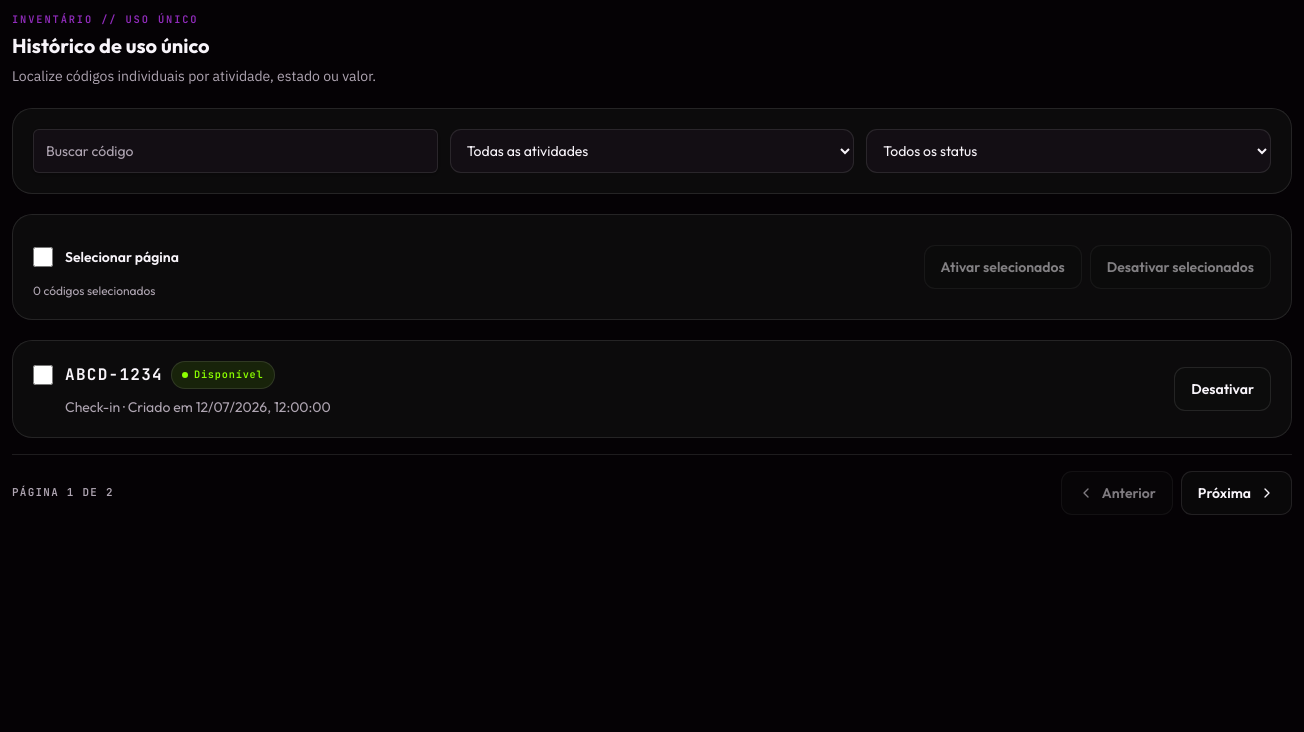
Scenario: ClaimCodeHistory audited status › mantém somente os IDs escolhidos ao mudar de página
What coordinates should you click on to do the following:
click the checkbox named "Selecionar código ABCD-1234"
I would click on:
 (43, 375)
Its box is [33,365,53,385].
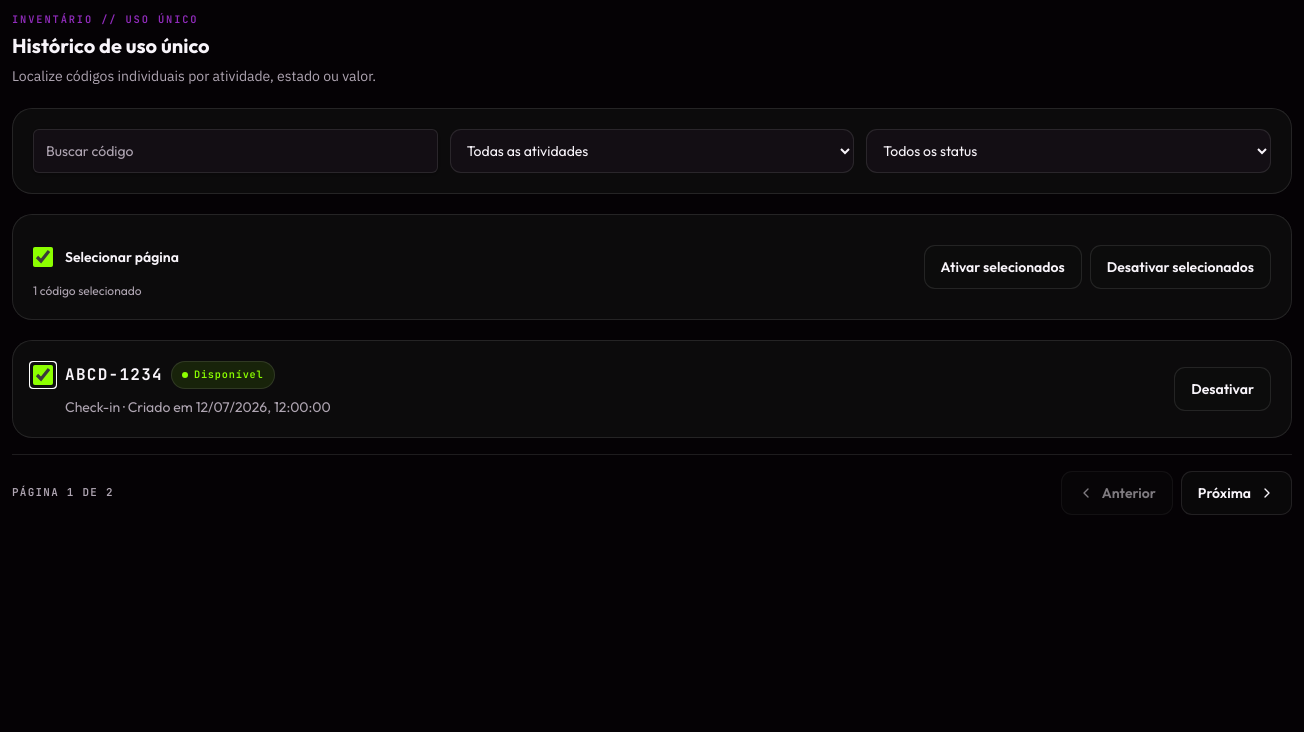
What coordinates should you click on to do the following:
click the button with aria-label "Próxima página"
I would click on:
 (1236, 493)
Its box is [1181,471,1292,515].
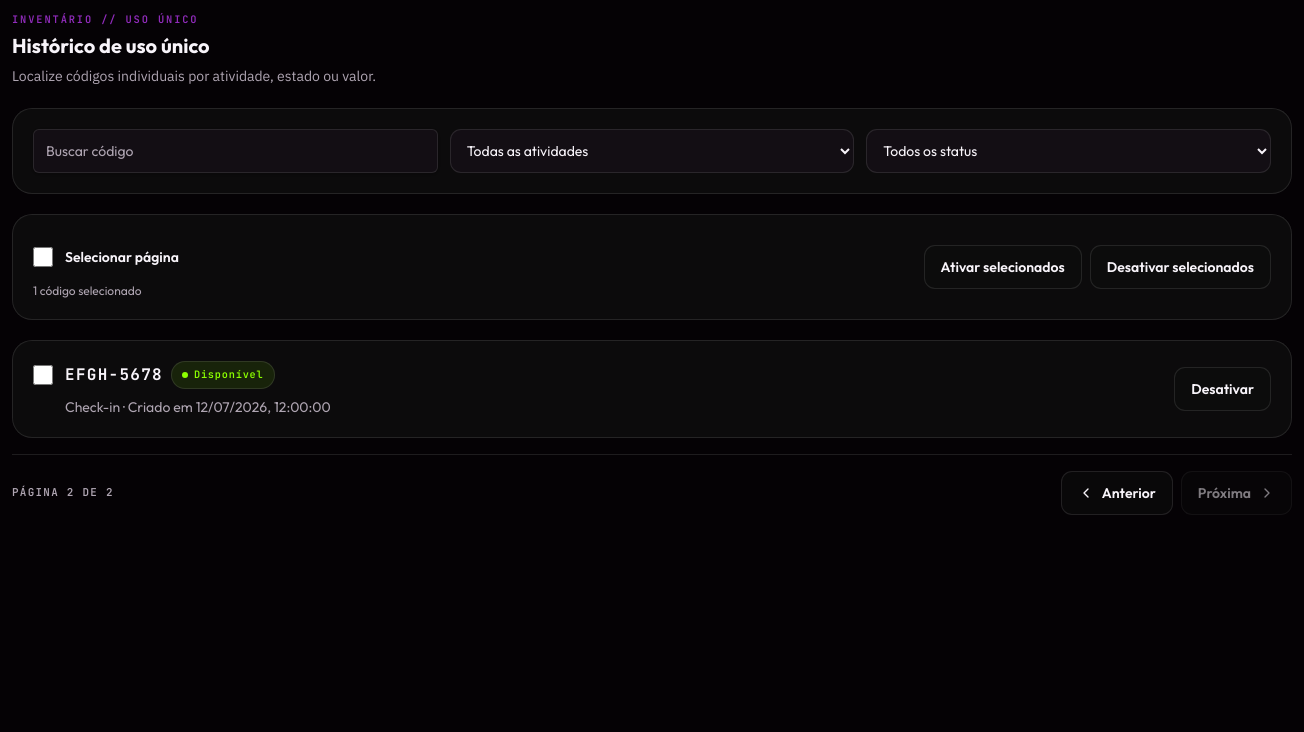
Expected: the text "1 código selecionado" is shown, [33,283,142,298]
Expected: the checkbox named "Selecionar código EFGH-5678" is not checked, [33,365,53,385]
